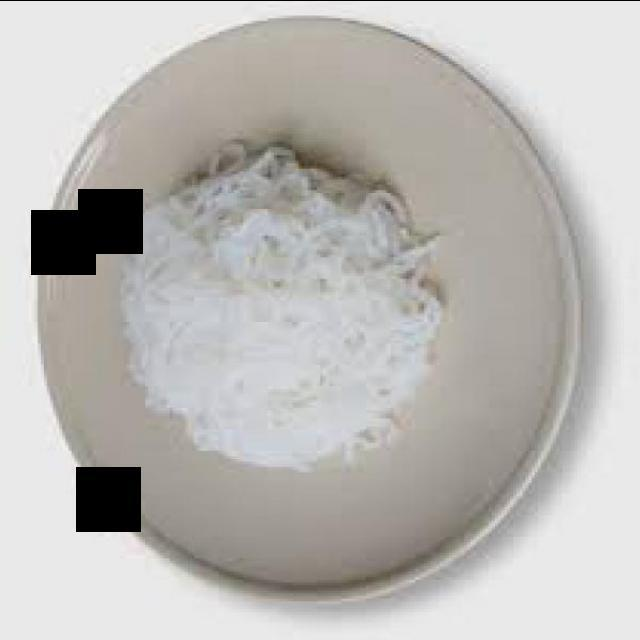rice: (126, 148, 445, 473)
